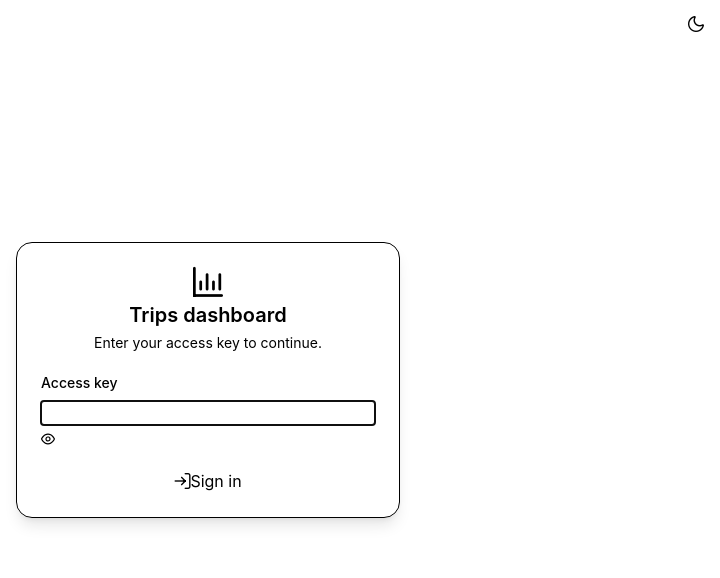
Test: authentication flow › tells the user how long to wait after a rate limit
Type "whatever" into the password field labelled "Access key" at (208, 413), box x1=41 y1=401 x2=375 y2=425
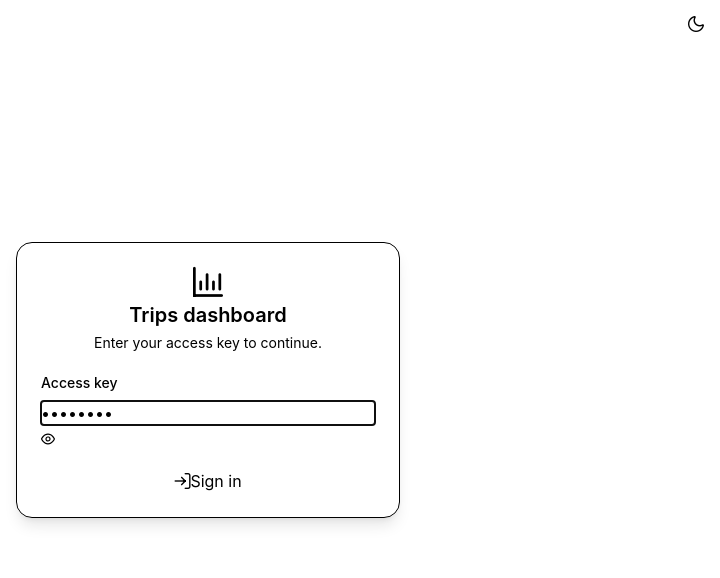
Click the button "Sign in" at (208, 481), box x1=41 y1=469 x2=375 y2=493
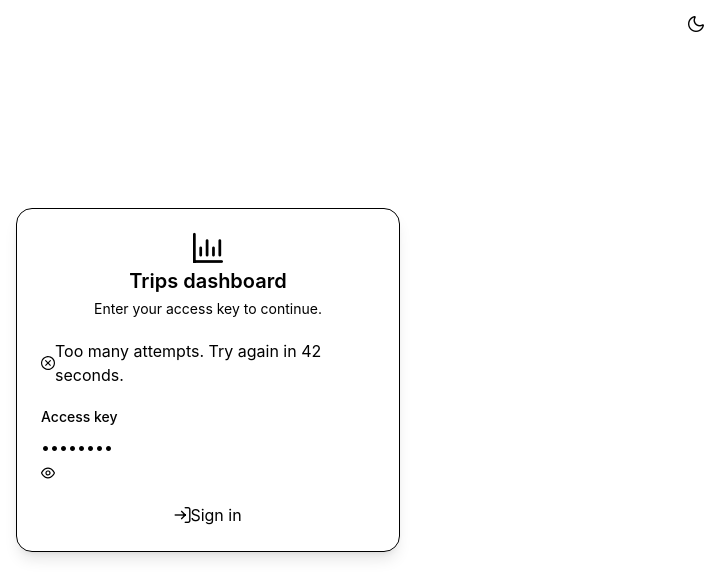
expect the text "Too many attempts. Try again in 42 seconds." is shown: met, box x1=55 y1=341 x2=321 y2=385
